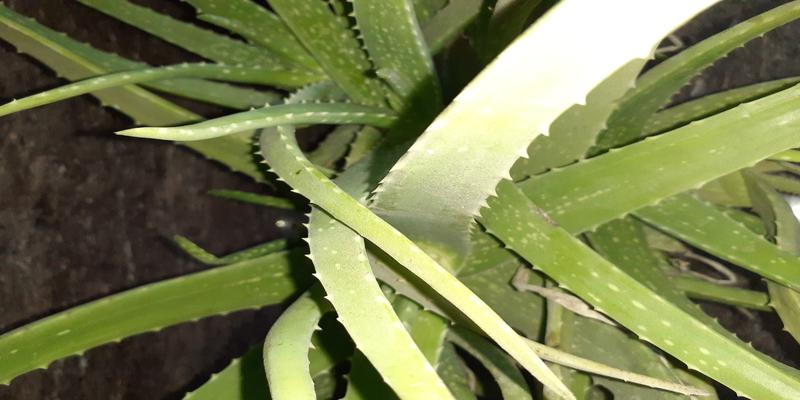Aloevera: (202, 25, 756, 384)
